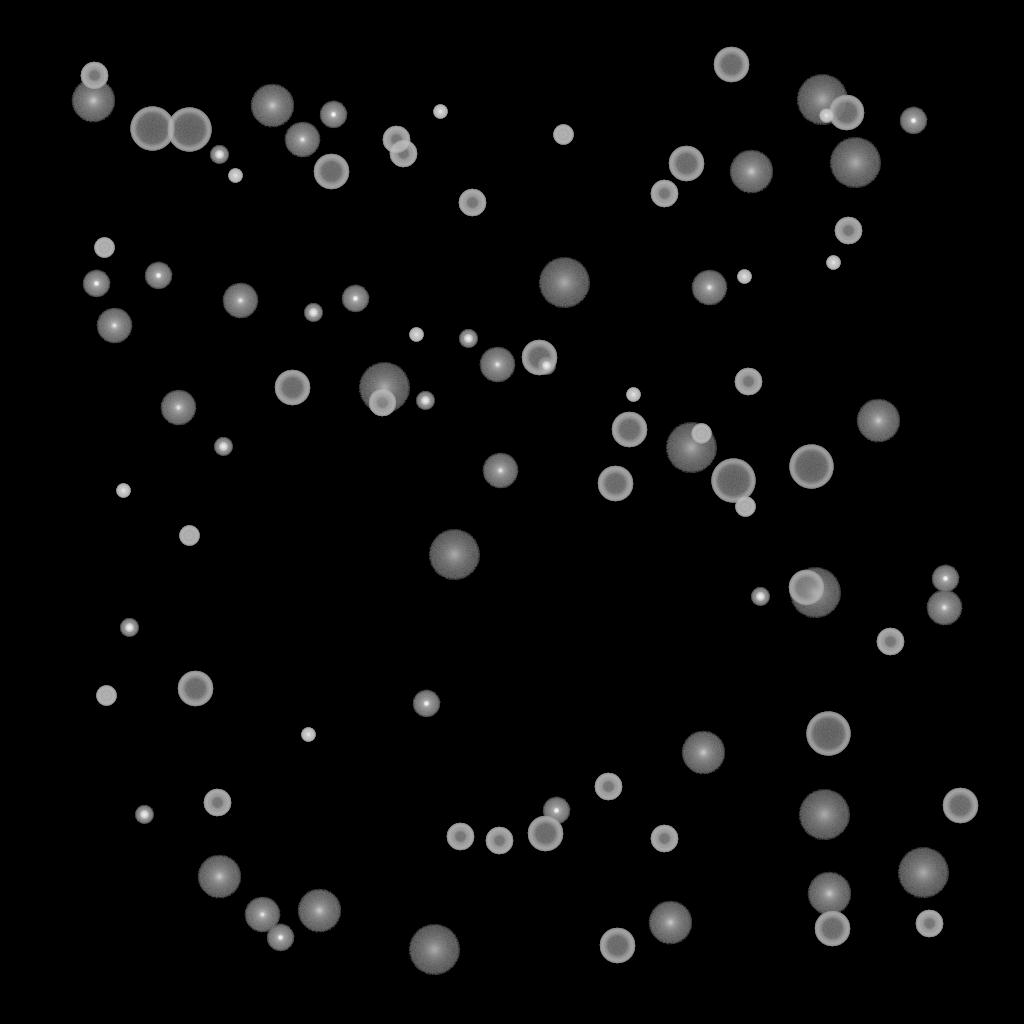depth:-10: (341, 285, 369, 313), (82, 270, 110, 298), (542, 797, 570, 825), (899, 107, 927, 135), (412, 690, 440, 718), (319, 101, 347, 129), (144, 262, 172, 290), (266, 924, 294, 952), (931, 565, 959, 593)
depth:-20: (459, 330, 477, 348), (304, 304, 322, 322), (214, 438, 232, 456), (751, 588, 769, 606), (416, 392, 434, 410), (537, 357, 555, 375), (120, 619, 138, 637), (135, 806, 153, 824), (210, 146, 228, 164)
depth:-30: (826, 256, 840, 270), (409, 328, 423, 342), (819, 109, 833, 123), (228, 169, 242, 183), (626, 388, 640, 402), (116, 484, 130, 498), (737, 270, 751, 284), (433, 105, 447, 119), (301, 728, 315, 742)
depth:-40: (553, 125, 573, 145), (179, 526, 199, 546), (691, 424, 711, 444), (96, 686, 116, 706), (94, 238, 114, 258), (735, 497, 755, 517)
depth:-50: (80, 62, 108, 90), (594, 773, 622, 801), (446, 823, 474, 851), (915, 910, 943, 938), (458, 189, 486, 217), (382, 126, 410, 154), (650, 180, 678, 208), (650, 825, 678, 853), (876, 628, 904, 656), (368, 389, 396, 417), (485, 827, 513, 855), (203, 789, 231, 817), (734, 368, 762, 396), (834, 217, 862, 245), (389, 140, 417, 168)
depth:-60: (668, 146, 704, 182), (611, 412, 647, 448), (828, 95, 864, 131), (521, 340, 557, 376), (527, 816, 563, 852), (597, 466, 633, 502), (177, 671, 213, 707), (599, 928, 635, 964), (814, 911, 850, 947), (788, 570, 824, 606), (713, 47, 749, 83), (313, 154, 349, 190), (942, 788, 978, 824), (274, 370, 310, 406)
depth:-70: (167, 108, 211, 152), (711, 459, 755, 503), (130, 107, 174, 151), (789, 445, 833, 489), (806, 712, 850, 756)
depth:0: (284, 122, 320, 158), (926, 590, 962, 626), (479, 347, 515, 383), (482, 453, 518, 489), (160, 390, 196, 426), (222, 283, 258, 319), (691, 270, 727, 306), (244, 897, 280, 933), (96, 308, 132, 344)
depth:10: (681, 731, 725, 775), (807, 872, 851, 916), (71, 79, 115, 123), (297, 889, 341, 933), (856, 399, 900, 443), (197, 855, 241, 899), (648, 901, 692, 945), (729, 150, 773, 194), (250, 84, 294, 128)
depth:20: (538, 258, 590, 308), (798, 790, 850, 840), (665, 423, 717, 473), (829, 138, 881, 188), (897, 848, 949, 898), (358, 363, 410, 413), (408, 925, 460, 975), (428, 530, 480, 580), (789, 568, 841, 618), (796, 75, 848, 125)
